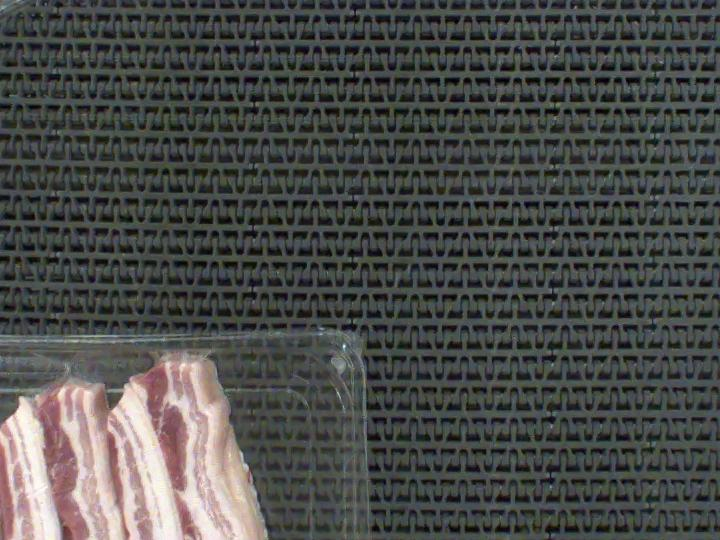packaging-error: (0, 313, 258, 412)
